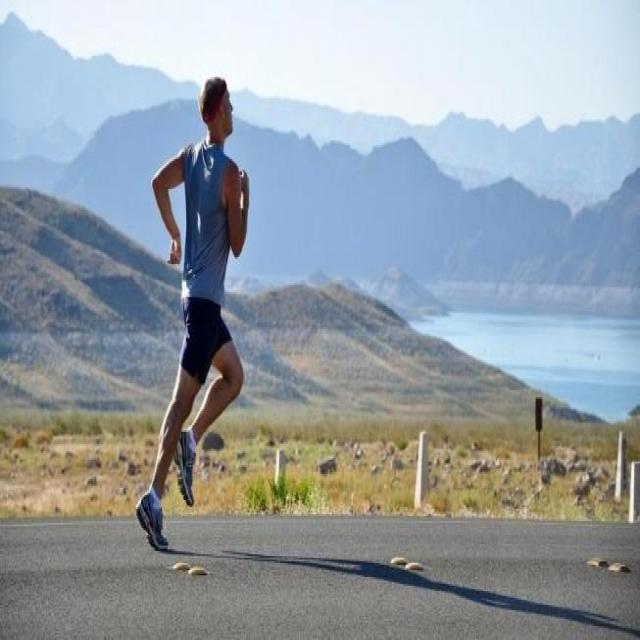Person: (137, 74, 249, 551)
